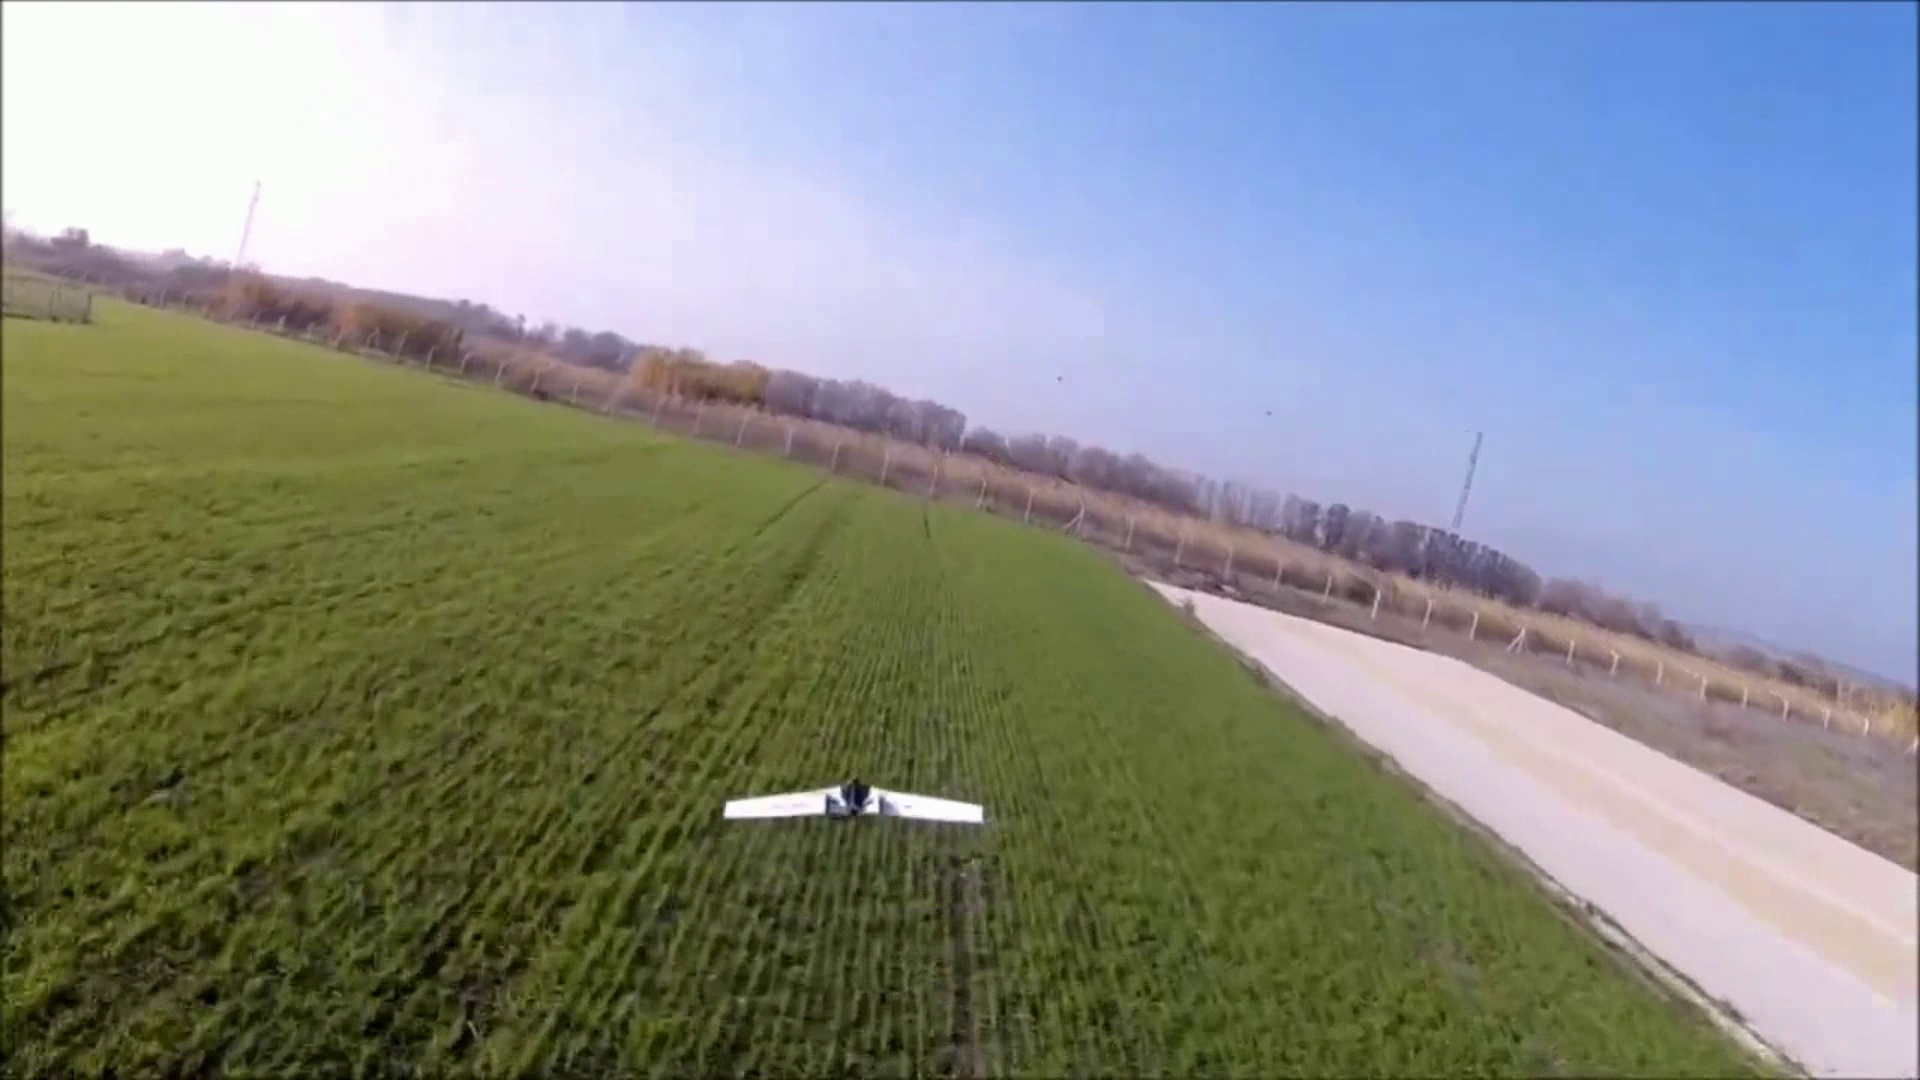airplane: (721, 777, 986, 825)
